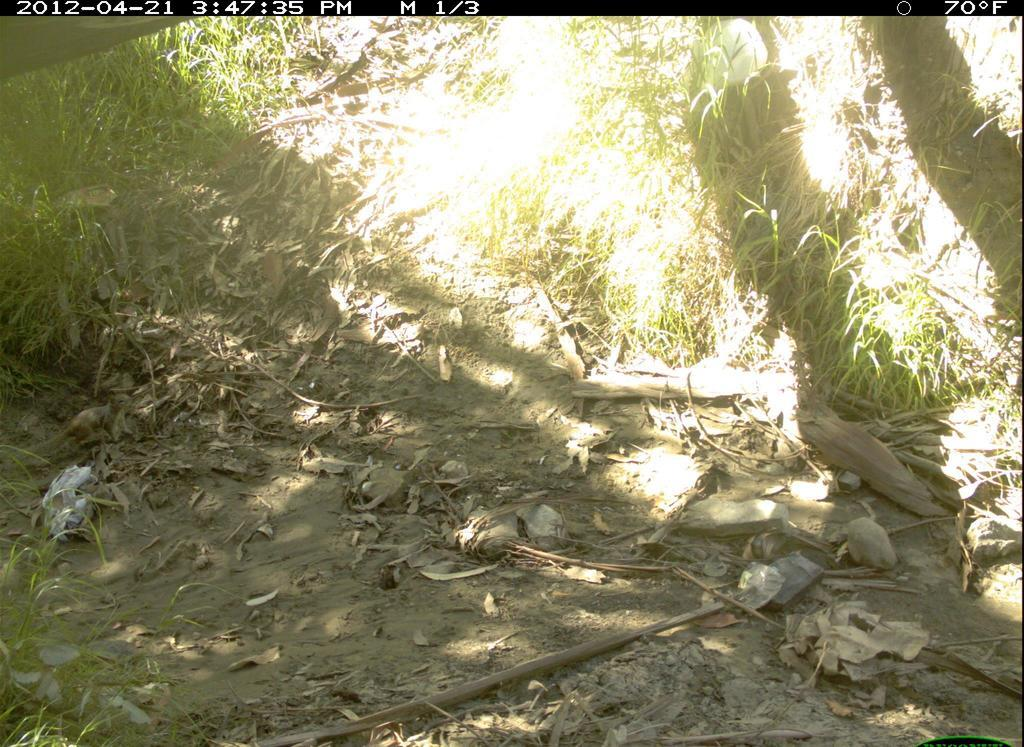squirrel: (14, 391, 139, 470)
